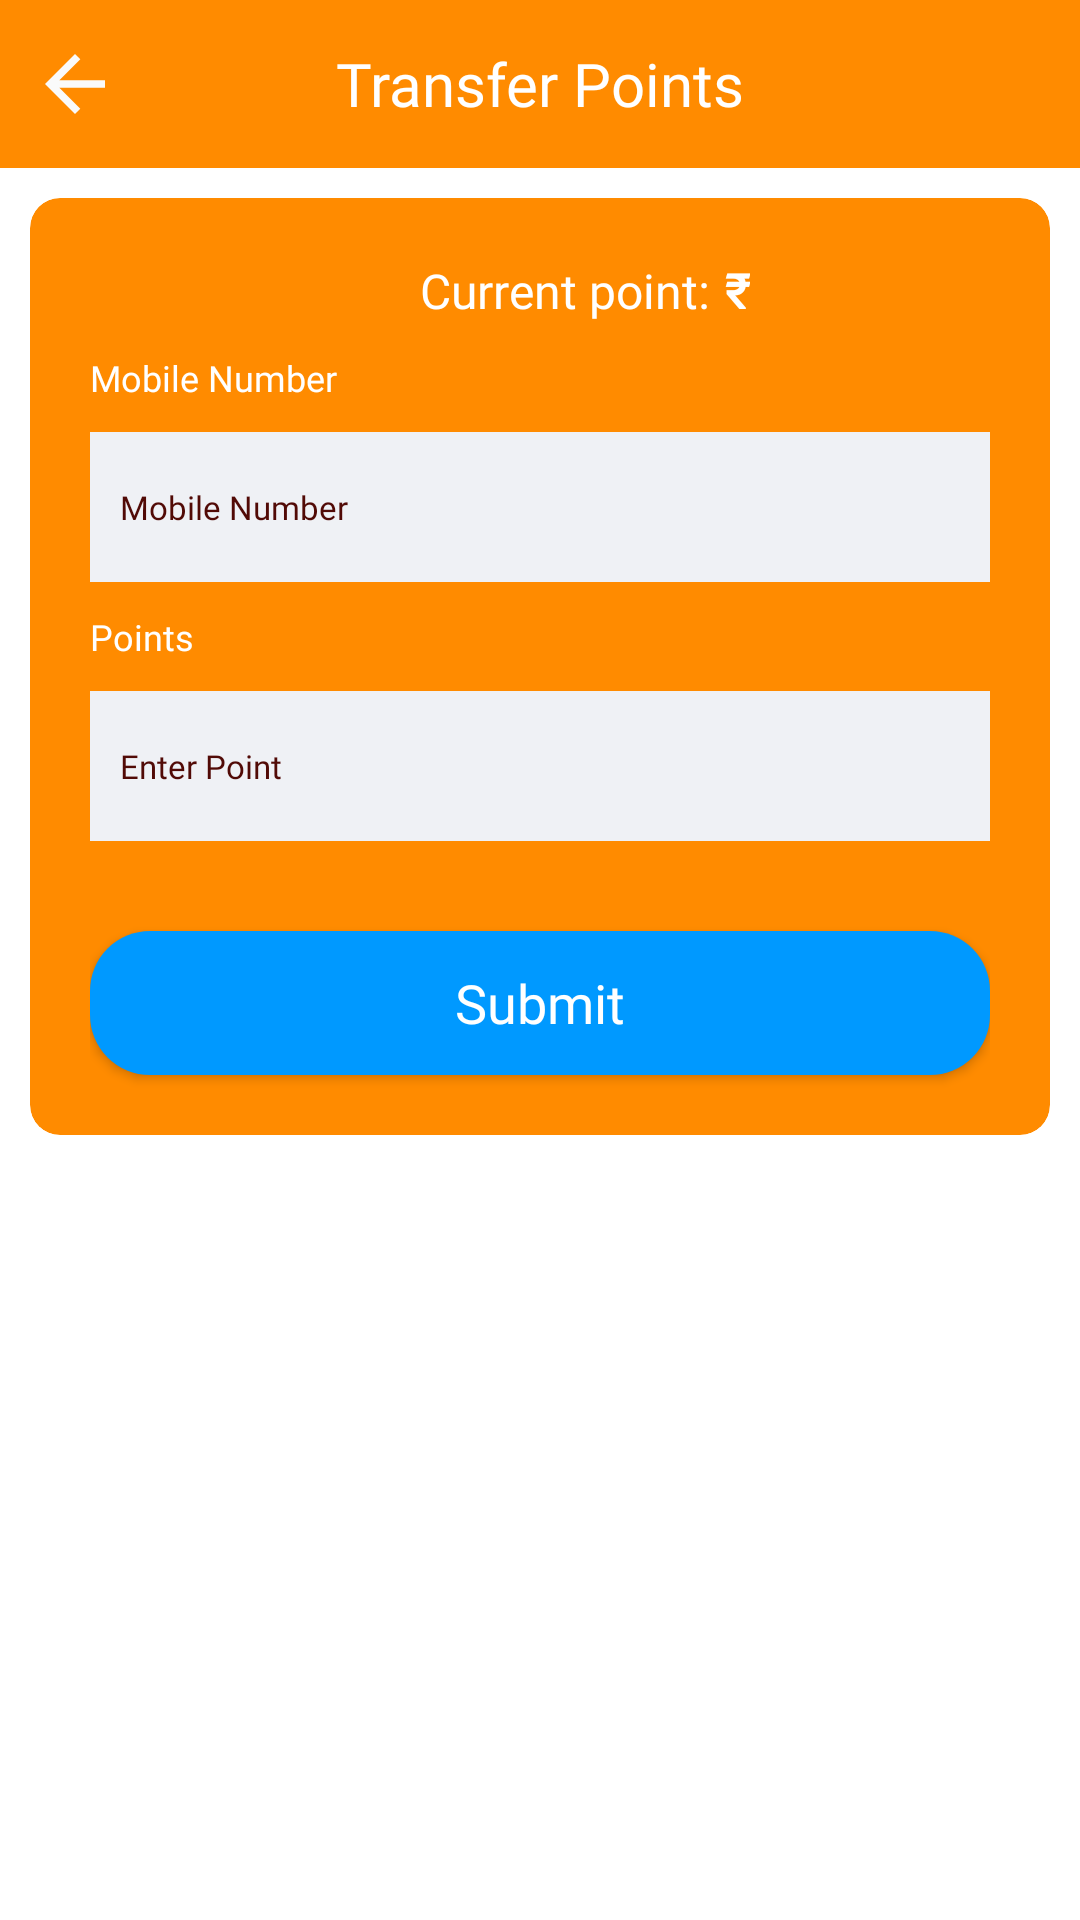

Point at icon controls on the screen. Image size 1080*1920, points as (x,y).
arrow back: (75,84)
